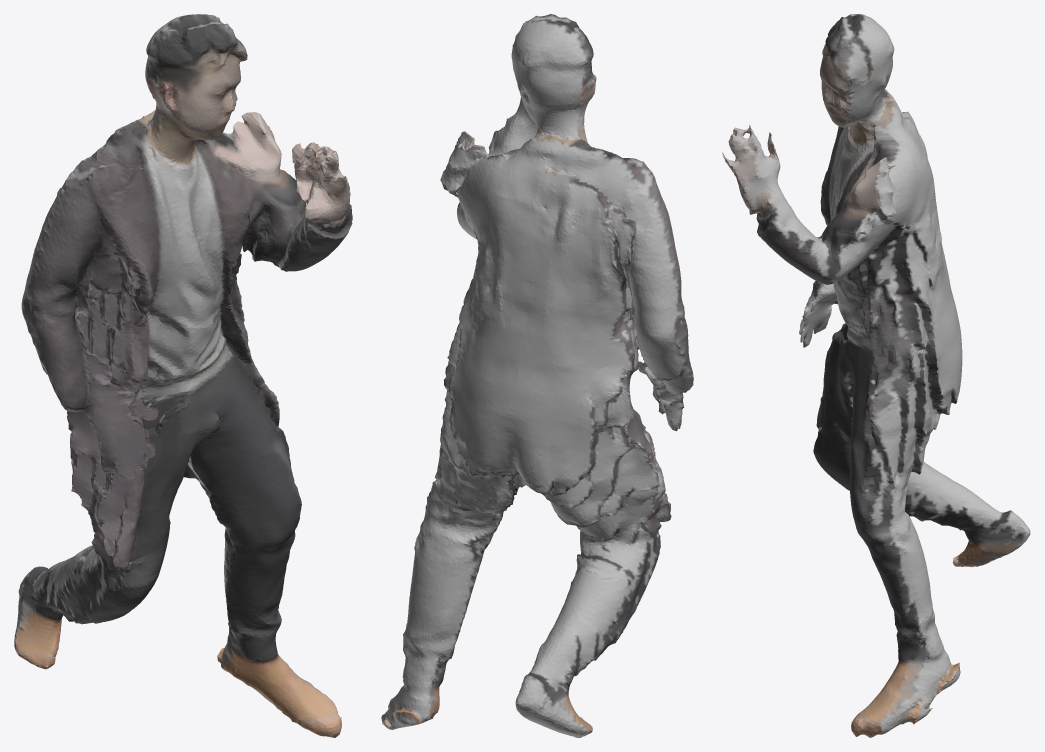
Rendered from 0003_view_elev+00_27_textured.glb.
3 renders of one model, left to right at view 1: azimuth 30°, elevation 25°; view 2: azimuth 150°, elevation 25°; view 3: azimuth 270°, elevation 25°, orthographic. The views are drawn at different scales.
Visible parts, largest first — view 1: 0003_view_elev+00_27_merged.obj; view 2: 0003_view_elev+00_27_merged.obj; view 3: 0003_view_elev+00_27_merged.obj.
Boxes of the visible parts, left/top/right/bottom form: 0003_view_elev+00_27_merged.obj: left=14, top=14, right=352, bottom=737; 0003_view_elev+00_27_merged.obj: left=381, top=14, right=693, bottom=737; 0003_view_elev+00_27_merged.obj: left=722, top=14, right=1030, bottom=737.
Size of the model in its own units: 0.7616 by 1.81 by 0.7655.
